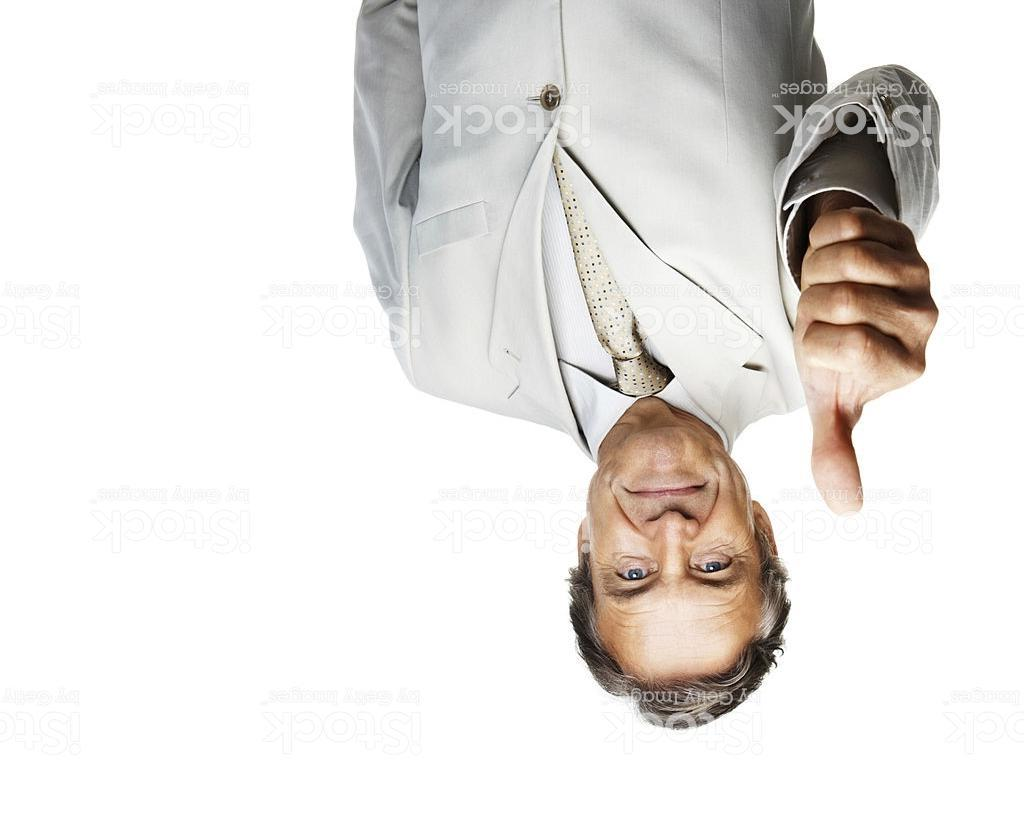thumbsdown: (799, 207, 941, 517)
